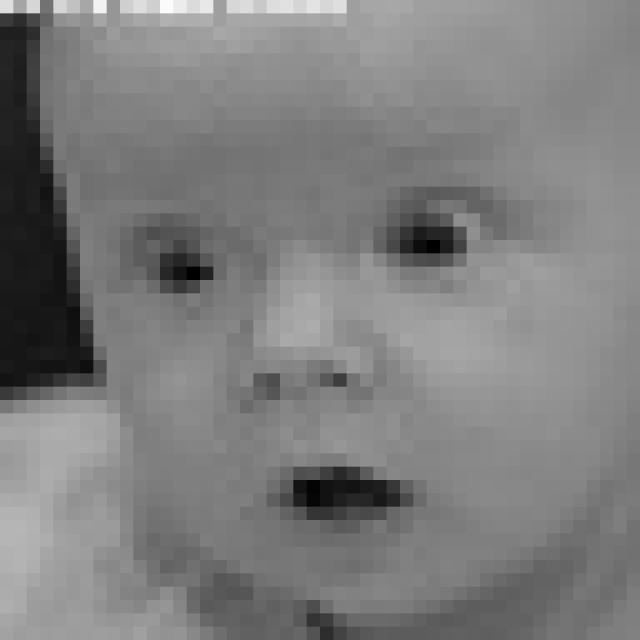surprise: (122, 180, 545, 552)
